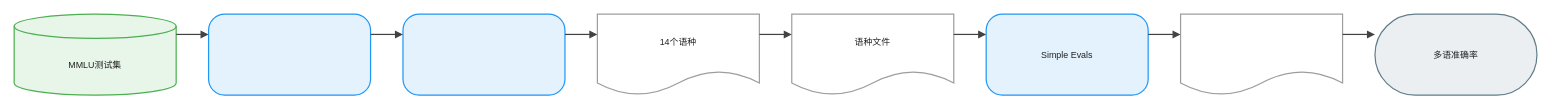
This 1552x110 diagram has some shape labels left out. Here are the shapes that lost their labels. From the top down, the box of each, then its label:
(208, 13, 371, 95): 57个学科
(402, 13, 565, 95): 人工翻译
(1180, 13, 1343, 95): 精确匹配
